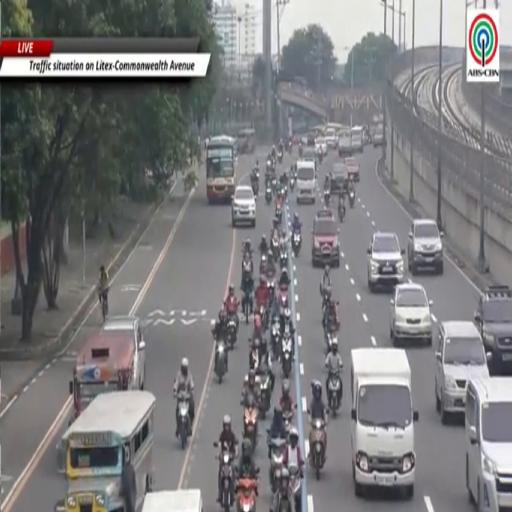bus: (206, 136, 237, 203)
car: (463, 377, 511, 511), (435, 322, 489, 423), (101, 315, 145, 389), (475, 285, 511, 374), (390, 283, 432, 346), (367, 232, 404, 292), (408, 219, 443, 275), (312, 210, 339, 267), (232, 185, 255, 227), (330, 164, 348, 196), (338, 132, 353, 156), (345, 157, 359, 182), (302, 148, 317, 171), (372, 125, 384, 148), (316, 137, 327, 155), (307, 133, 315, 147)
jeepney: (55, 391, 155, 511), (69, 331, 137, 420), (141, 489, 202, 511), (238, 128, 255, 154)
motorcycle: (216, 447, 233, 511), (309, 420, 325, 479), (270, 439, 286, 493), (177, 392, 190, 449), (243, 406, 258, 451), (237, 478, 257, 511), (328, 372, 342, 417), (281, 326, 293, 378), (289, 464, 301, 511), (260, 373, 272, 419), (215, 341, 227, 382), (270, 315, 280, 357), (242, 286, 253, 324), (325, 326, 338, 353), (227, 316, 236, 348), (276, 493, 292, 511), (267, 276, 275, 311), (283, 410, 293, 436), (258, 306, 268, 331), (322, 288, 329, 322), (292, 231, 301, 257), (279, 286, 288, 311), (250, 348, 259, 371), (271, 238, 279, 261), (259, 253, 267, 275), (280, 248, 288, 269), (338, 202, 345, 221), (265, 185, 272, 204), (252, 176, 258, 196), (275, 206, 282, 222), (324, 189, 330, 206), (349, 190, 354, 207), (282, 184, 288, 198), (290, 176, 295, 191), (277, 150, 282, 164), (318, 152, 323, 164), (272, 178, 276, 191), (288, 142, 292, 154), (256, 169, 260, 180), (299, 146, 302, 157)
truck: (351, 347, 418, 499)
